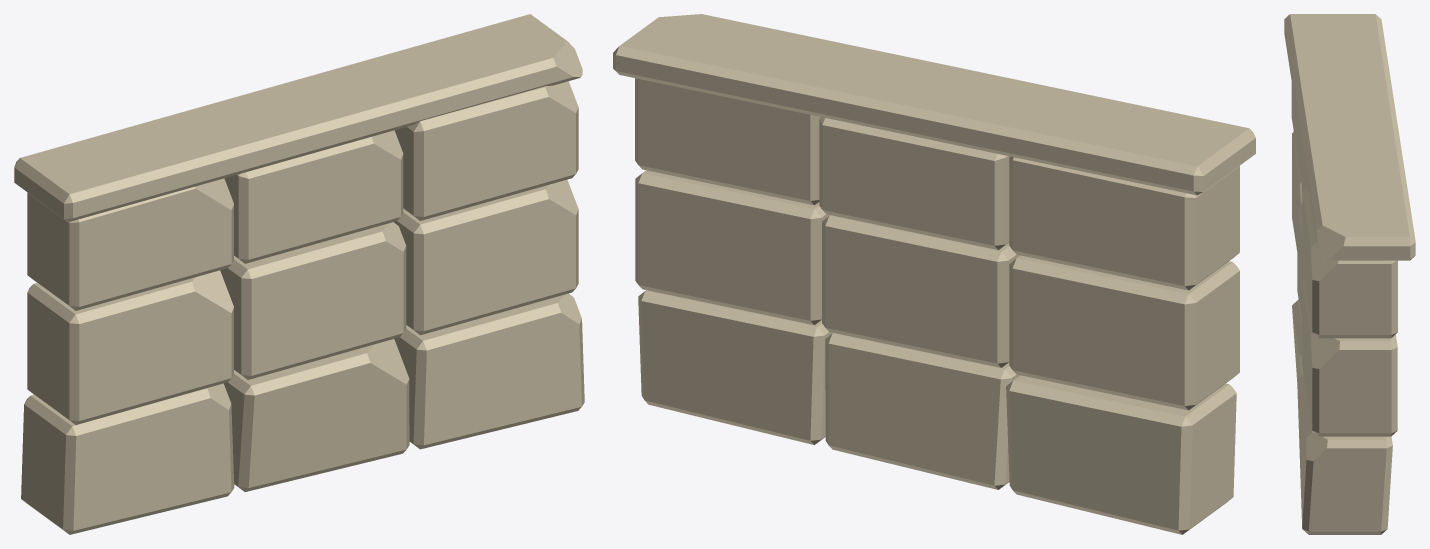
The model's file is Ruin_Wall_A_candidate-initial.glb.
3 renders of one model, left to right at view 1: azimuth 30°, elevation 25°; view 2: azimuth 150°, elevation 25°; view 3: azimuth 270°, elevation 25°, orthographic. The views are drawn at different scales.
Visible parts, largest first — view 1: Ruin_Wall_A_Detail_v1.001; view 2: Ruin_Wall_A_Detail_v1.001; view 3: Ruin_Wall_A_Detail_v1.001.
Boxes of the visible parts, box(x1,y1,x2,y2) form: Ruin_Wall_A_Detail_v1.001: box(14, 14, 584, 534); Ruin_Wall_A_Detail_v1.001: box(613, 14, 1255, 534); Ruin_Wall_A_Detail_v1.001: box(1284, 14, 1415, 534).
Bounding box in the file's own units: 8.2 × 5.08 × 2.
